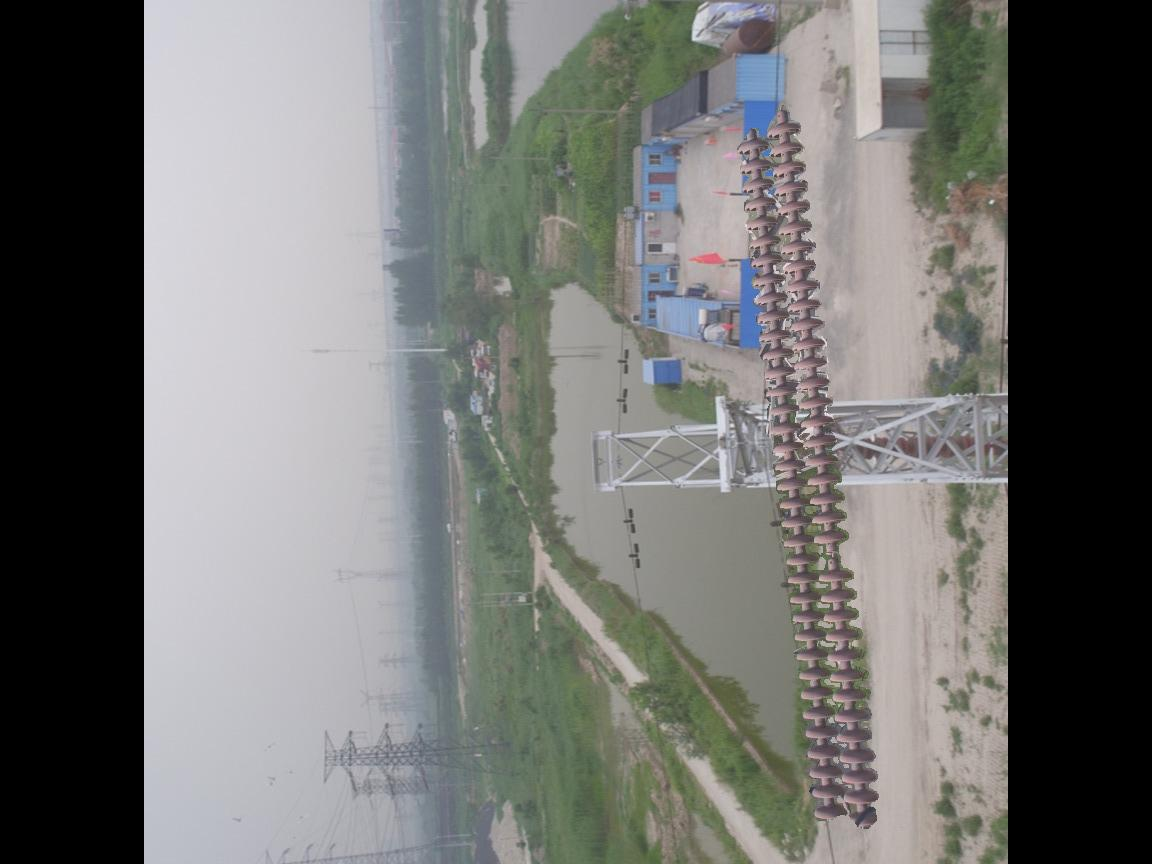insulator: (733, 111, 885, 832), (854, 434, 1009, 467)
insulator_stringdrop: (810, 529, 858, 586)
